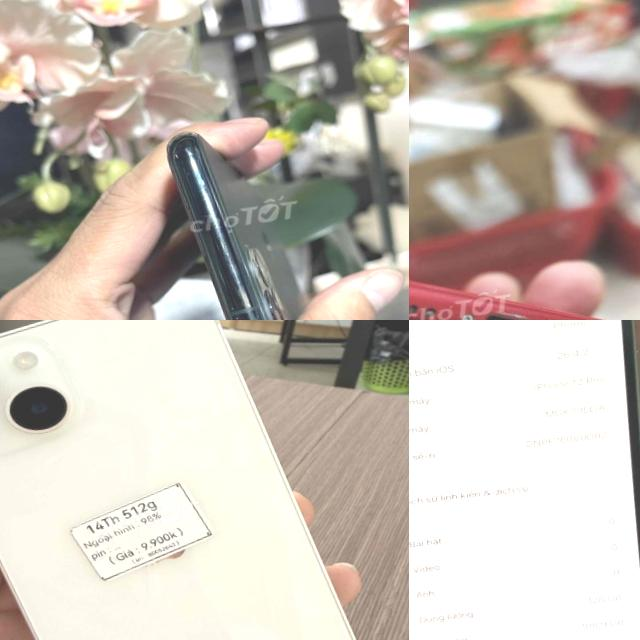scratch: (417, 279, 478, 320), (228, 295, 292, 320), (529, 304, 575, 320)
